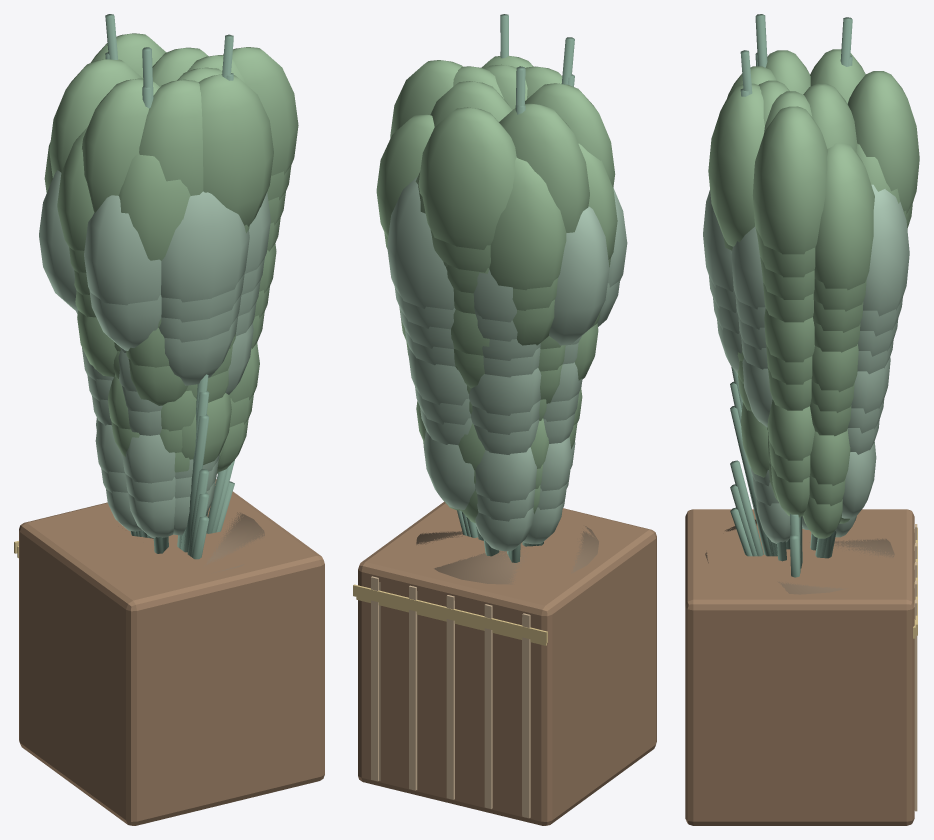
The model's file is Gear14.fbx.
The picture shows the model from 3 angles, left to right: view 1: azimuth 30°, elevation 25°; view 2: azimuth 150°, elevation 25°; view 3: azimuth 270°, elevation 25°; orthographic projection. The views are drawn at different scales.
Parts seen in each view (by area): view 1: Gear14_V10_Walnut, Gear14_V10_Leaf, Gear14_V10_Sage, Gear14_V9_Sage, Gear14_V3_Leaf, Gear14_V3_Sage, Gear14_V6_Leaf, Gear14_V1_Sage, Gear14_V7_Sage, Gear14_V5_Leaf, Gear14_V8_Sage, Gear14_V2_Sage (+15 smaller); view 2: Gear14_V10_Walnut, Gear14_V10_Leaf, Gear14_V10_Sage, Gear14_V10_Oak, Gear14_V3_Sage, Gear14_V6_Sage, Gear14_V5_Sage, Gear14_V10_Soil, Gear14_V4_Sage, Gear14_V1_Sage, Gear14_V10_Brass, Gear14_V9_Sage (+11 smaller); view 3: Gear14_V10_Walnut, Gear14_V10_Leaf, Gear14_V10_Sage, Gear14_V3_Leaf, Gear14_V6_Leaf, Gear14_V6_Sage, Gear14_V9_Leaf, Gear14_V1_Leaf, Gear14_V8_Leaf, Gear14_V4_Leaf, Gear14_V7_Leaf, Gear14_V5_Leaf (+15 smaller).
Boxes of the visible parts, x1,y1,x2,y2 form: Gear14_V10_Walnut: (19, 479, 324, 825); Gear14_V10_Leaf: (44, 33, 298, 260); Gear14_V10_Sage: (39, 170, 270, 310); Gear14_V9_Sage: (89, 258, 264, 350); Gear14_V3_Leaf: (108, 342, 259, 464); Gear14_V3_Sage: (95, 418, 219, 483); Gear14_V6_Leaf: (77, 243, 276, 376); Gear14_V1_Sage: (106, 480, 215, 537); Gear14_V7_Sage: (120, 302, 256, 385); Gear14_V5_Leaf: (114, 286, 269, 405); Gear14_V8_Sage: (75, 280, 260, 342); Gear14_V2_Sage: (101, 460, 218, 502); Gear14_V10_Walnut: (358, 501, 656, 825); Gear14_V10_Leaf: (376, 56, 617, 290); Gear14_V10_Sage: (387, 176, 627, 345); Gear14_V10_Oak: (371, 576, 530, 818); Gear14_V3_Sage: (423, 430, 575, 509); Gear14_V6_Sage: (408, 347, 582, 415); Gear14_V5_Sage: (415, 380, 582, 434); Gear14_V10_Soil: (416, 526, 598, 584); Gear14_V4_Sage: (420, 407, 575, 454); Gear14_V1_Sage: (475, 498, 565, 551); Gear14_V10_Brass: (353, 584, 547, 643); Gear14_V9_Sage: (394, 280, 619, 341); Gear14_V10_Walnut: (685, 509, 914, 825); Gear14_V10_Leaf: (708, 49, 919, 290); Gear14_V10_Sage: (703, 184, 909, 316); Gear14_V3_Leaf: (741, 399, 850, 485); Gear14_V6_Leaf: (737, 308, 858, 392); Gear14_V6_Sage: (742, 357, 890, 427); Gear14_V9_Leaf: (755, 203, 912, 311); Gear14_V1_Leaf: (770, 463, 849, 538); Gear14_V8_Leaf: (760, 229, 907, 332); Gear14_V4_Leaf: (738, 368, 851, 436); Gear14_V7_Leaf: (763, 283, 860, 352); Gear14_V5_Leaf: (737, 345, 854, 412).
Size of the model in its own units: 65.26 by 201 by 57.58.
